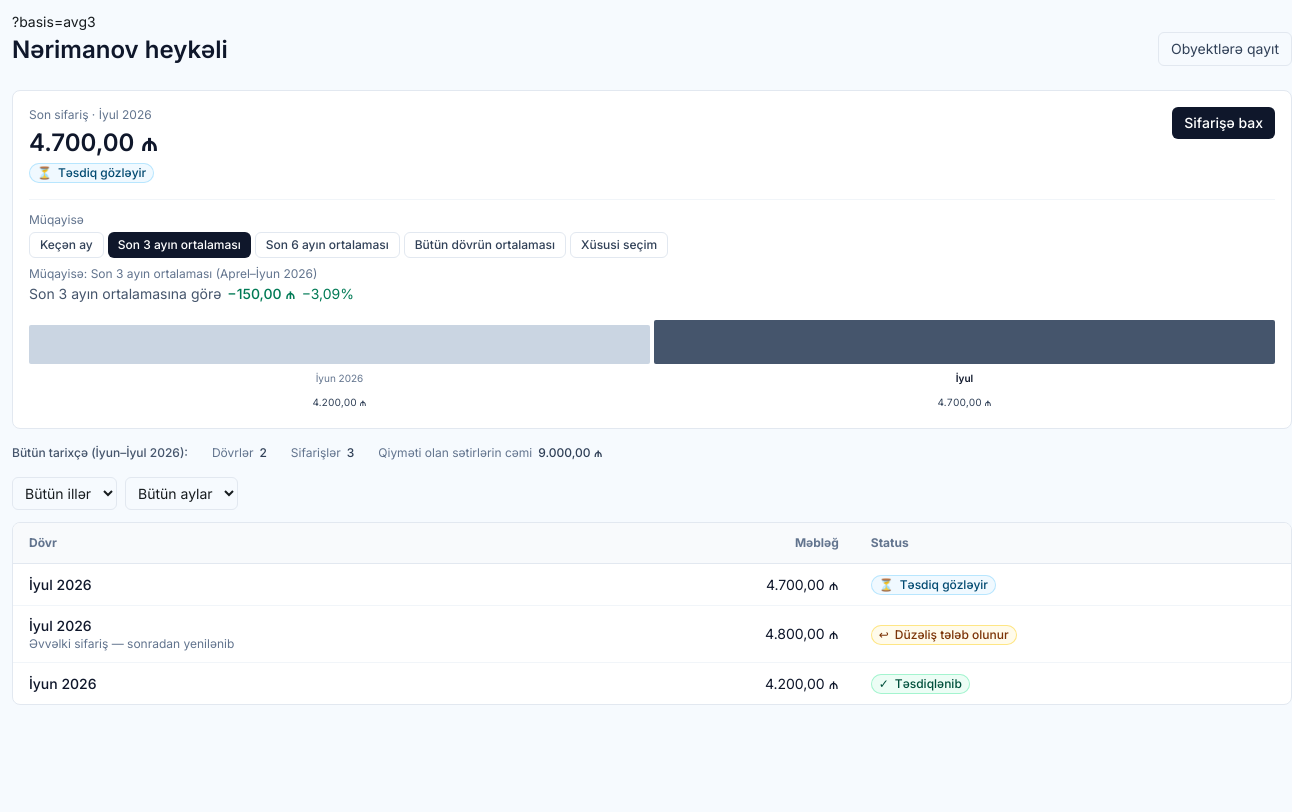
Scenario: one link per period row, and no «Müqayisə et» › has none under a filter either, where the page offers only the rows it lists
This screenshot has width=1292, height=812.
expect the heading "Nərimanov heykəli" is shown: met, box [12, 34, 228, 66]
Select "2026" in the 1st dropdown at (64, 494), box [12, 477, 117, 510]
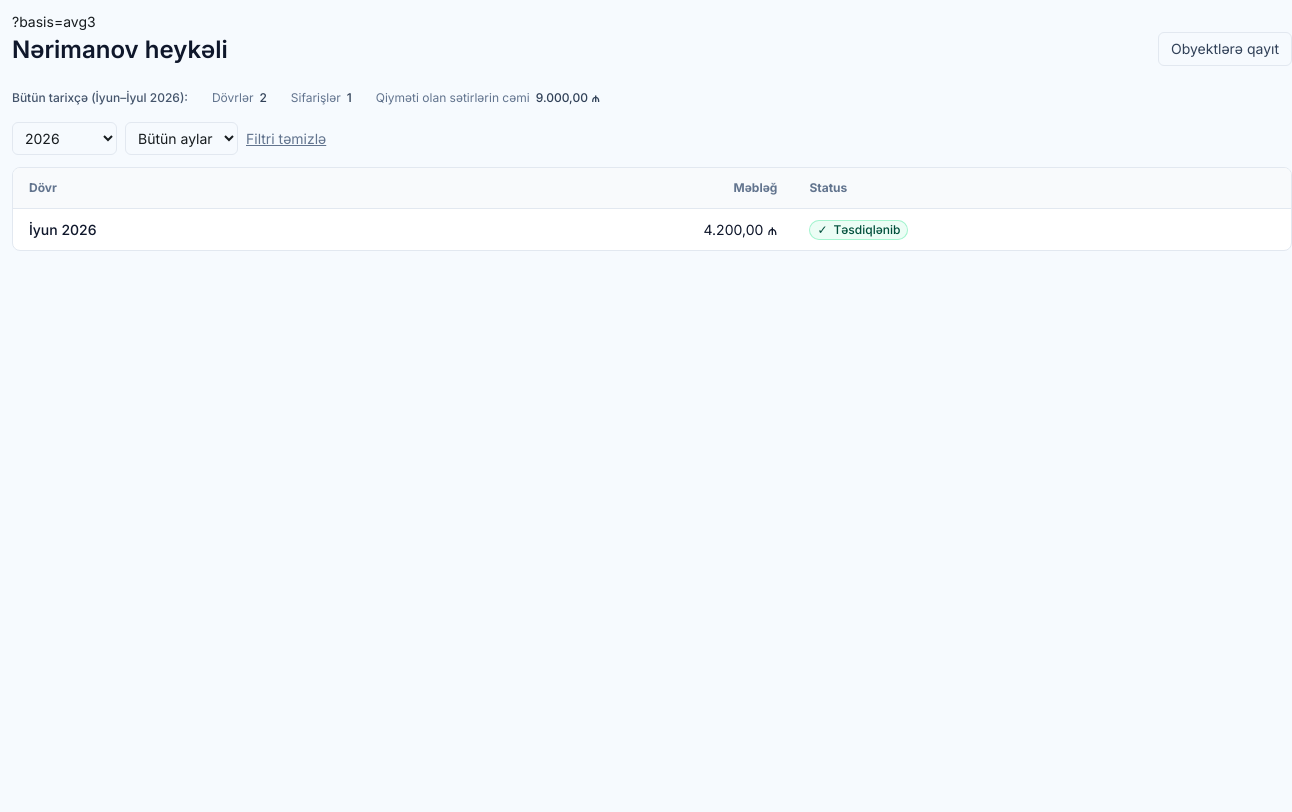
expect the text "Müqayisə" is gone: met
expect the links read "Obyektlərə qayıt", in this order: met, box [1158, 32, 1291, 66]
expect no the button "Keçən ay" are shown: met
